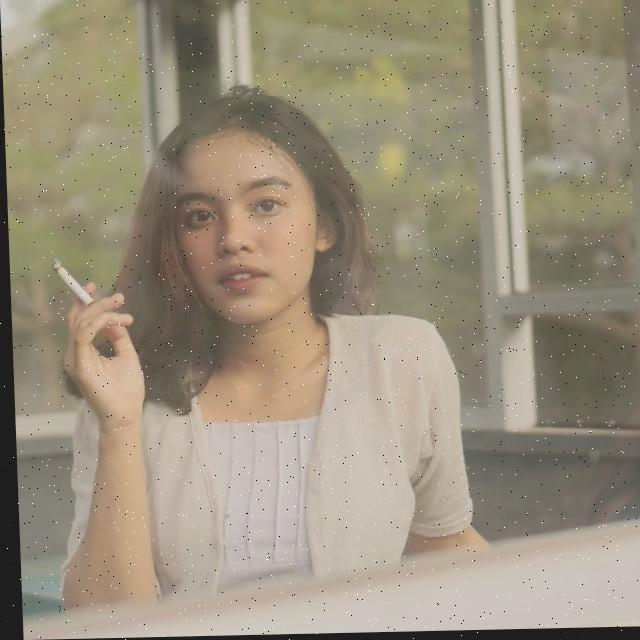cigarette: (49, 258, 93, 308)
